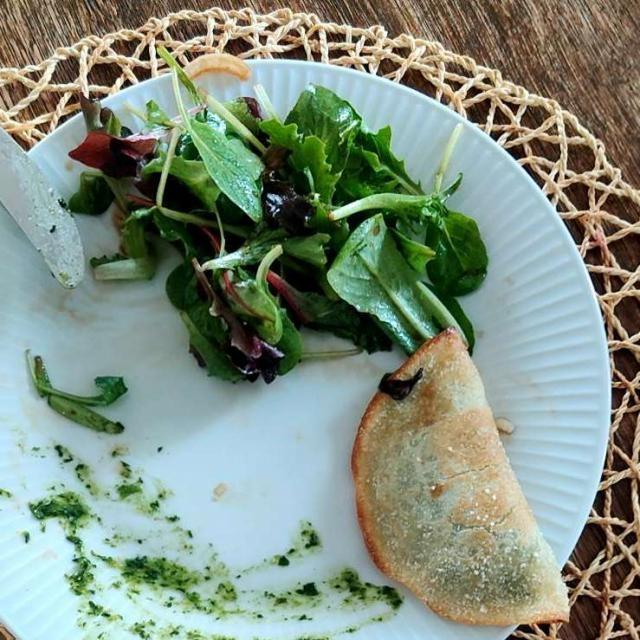salad: (74, 60, 485, 381)
